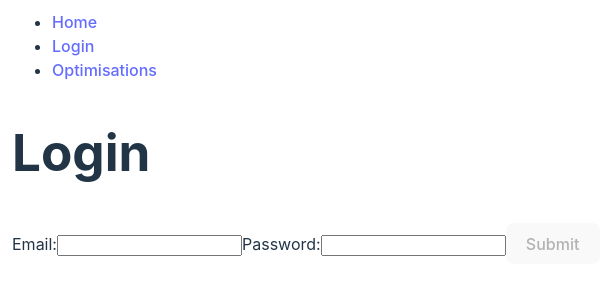
Scenario: Login Component › should submit form and redirect to /profile
Type "test@email.com" into the field labelled "Email:" at {"x": 150, "y": 245}, box [57,235,242,256]
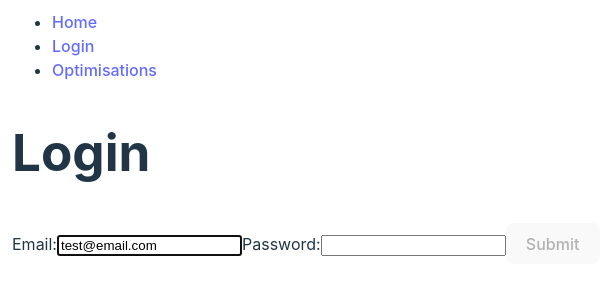
Type "secret_password" into the password field labelled "Password:" at {"x": 413, "y": 245}, box [321,235,506,256]
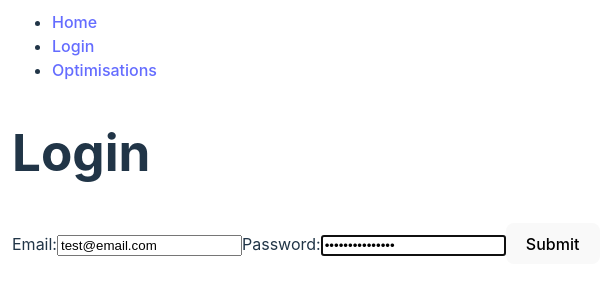
expect the button is enabled: met
Click the button at {"x": 553, "y": 244}, box [506,223,600,264]
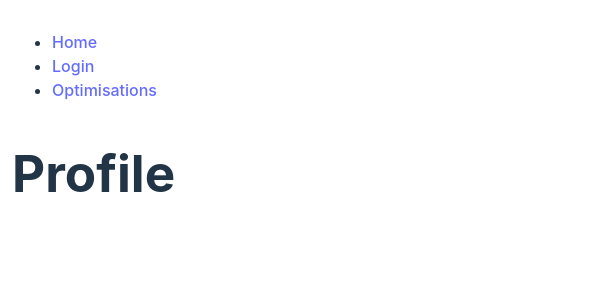
expect the heading "Profile" is shown: met, box [12,145,175,201]
